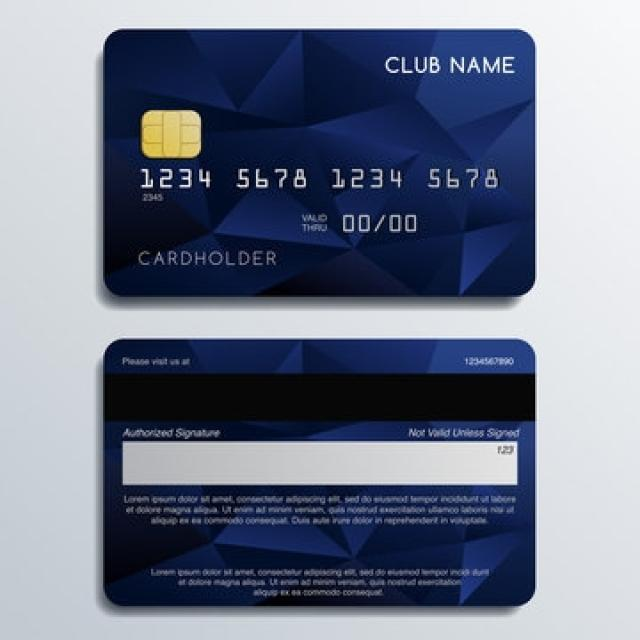payment_card: (101, 337, 537, 608), (101, 27, 536, 298)
